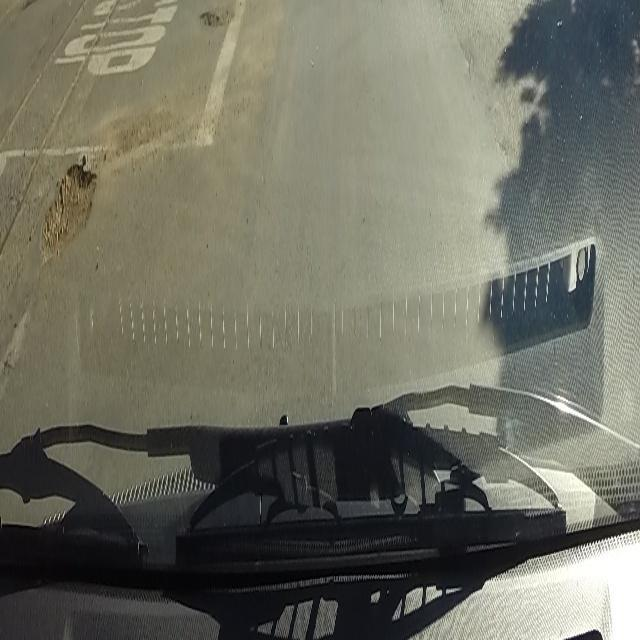pothole: (38, 159, 98, 271), (195, 0, 240, 32)
